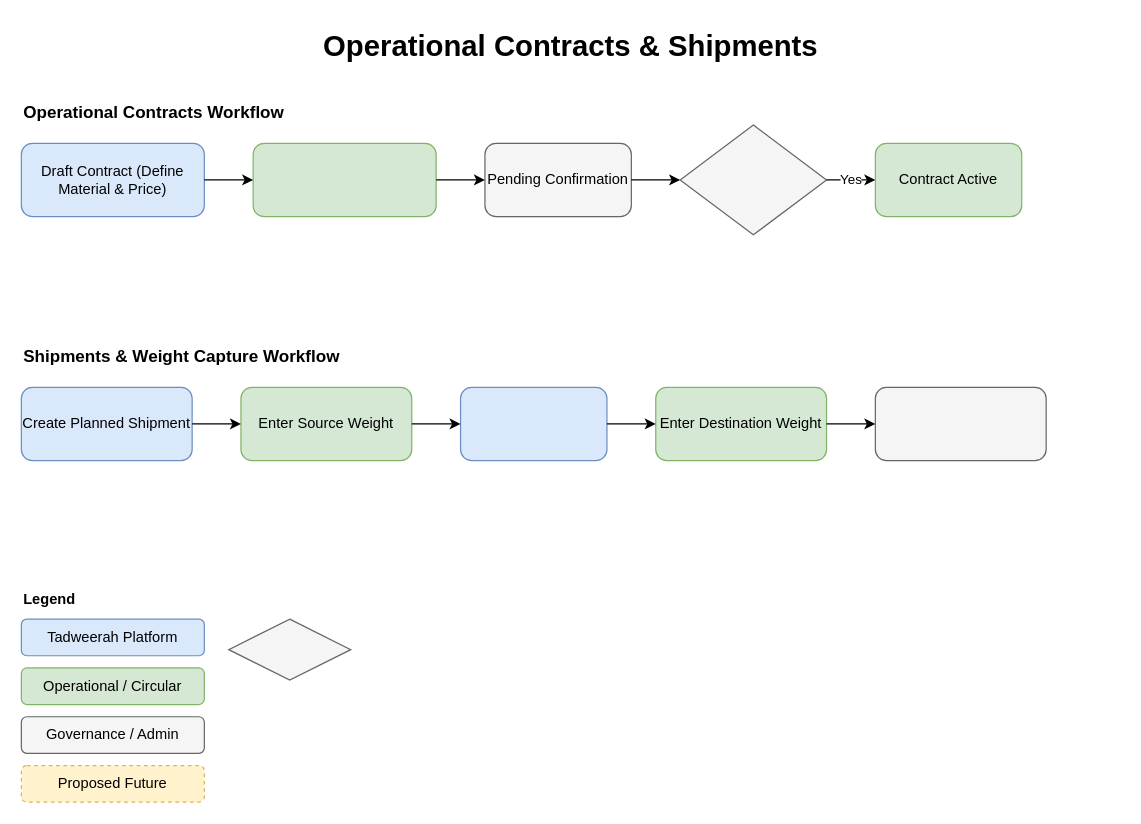
Image size: 1141x824. Some labels were removed from this diagram. The shapes that lost their labels are listed below. From the top down, each one's centre as x and y in pixels, then its label:
(x=344, y=179): Set Weight Policy (e.g., dual_higher_final)
(x=753, y=179): Counterparty Accepts
(x=533, y=423): Status: Dispatched
(x=960, y=423): Auto-Calculate Final Value & Close
(x=289, y=649): Decision Gate
